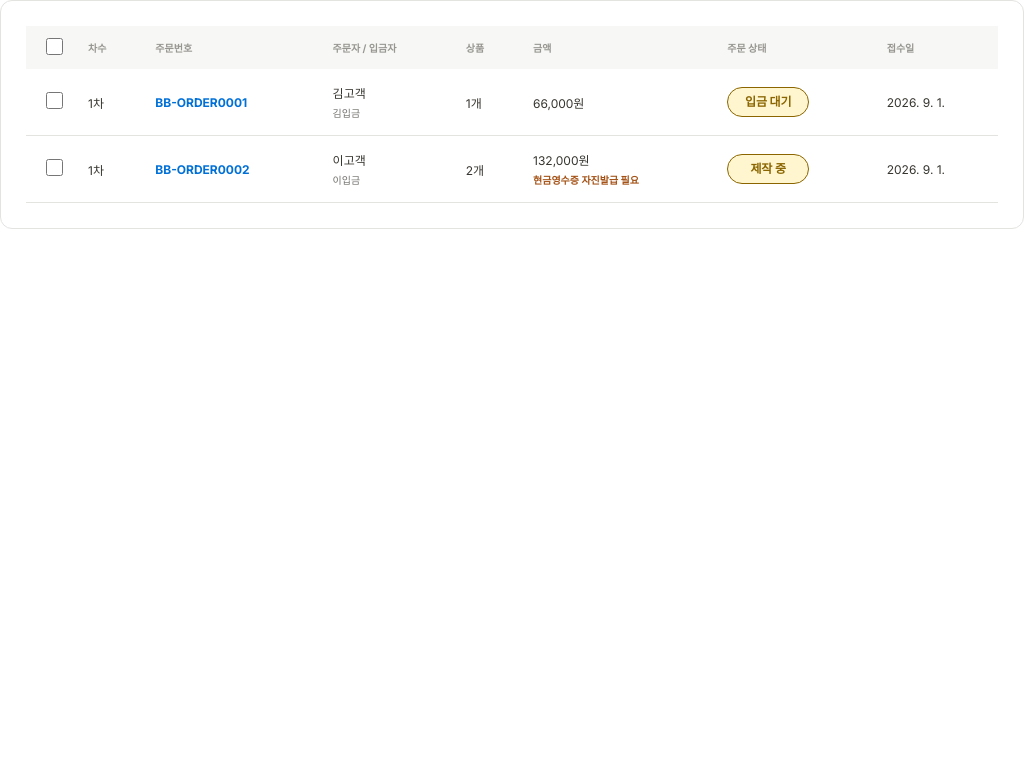
Test: AdminOrdersTable › 송장번호가 없는 택배 주문의 출고 완료 일괄 변경을 막는다
The image size is (1024, 768).
Click the checkbox named "BB-ORDER0001 선택" at [54, 100], box [46, 92, 62, 109]
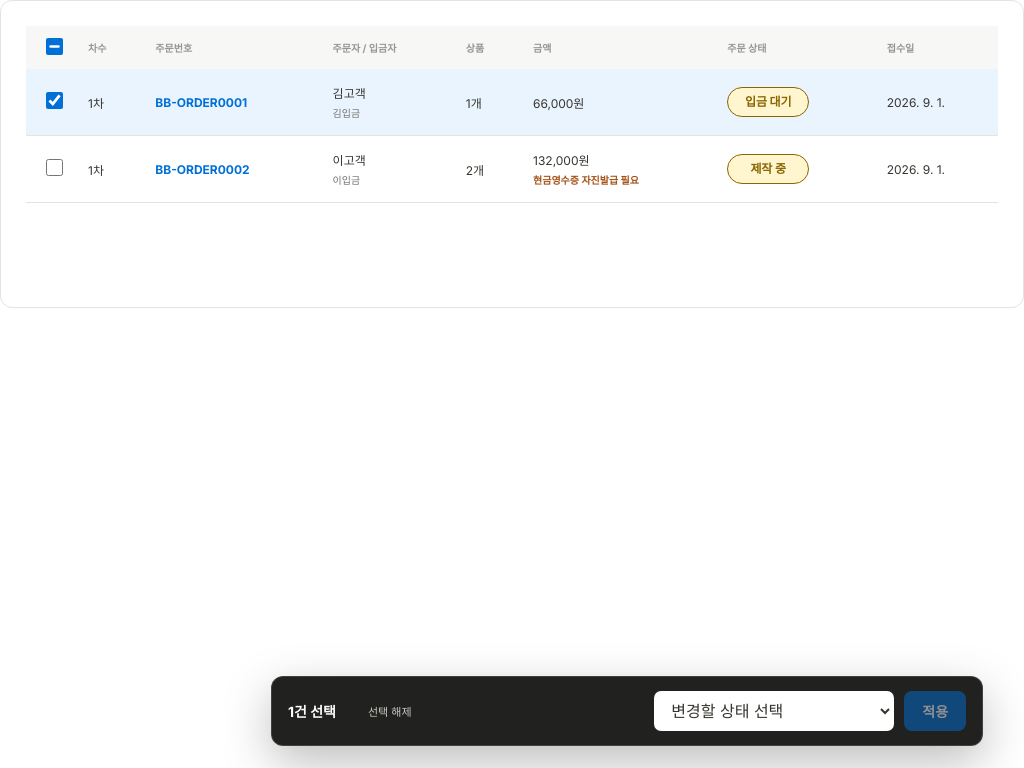
Select "출고 완료" in the dropdown named "변경할 주문 상태" at [774, 711], box [654, 691, 894, 731]
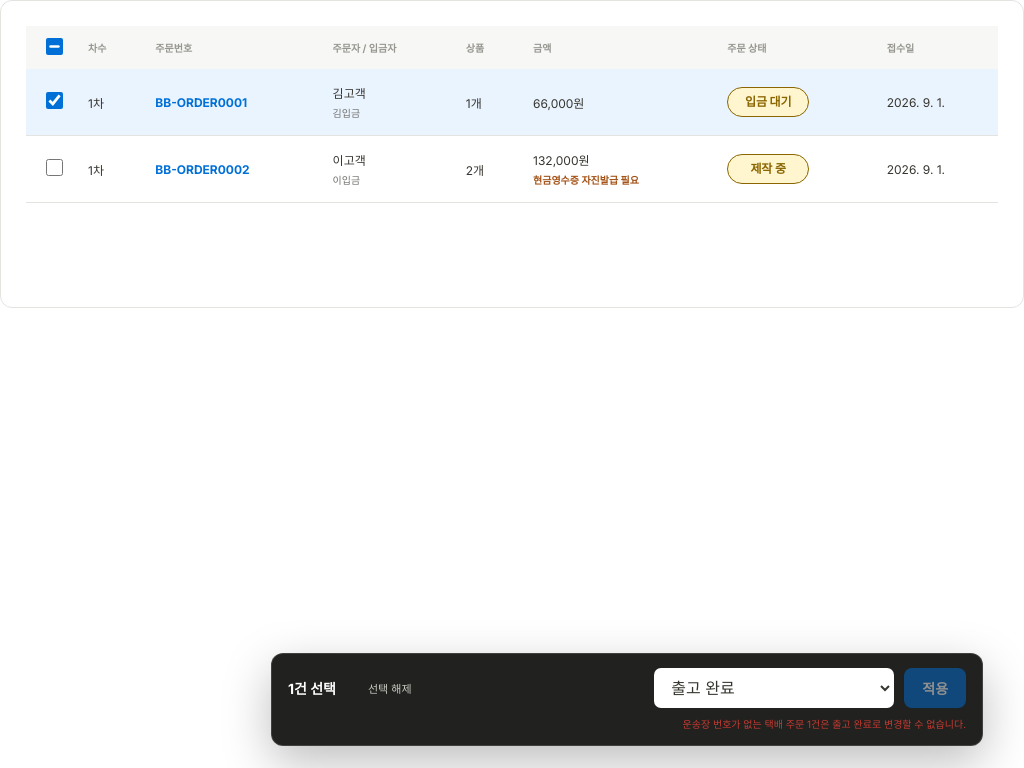
Now the button "적용" is disabled, box [904, 668, 966, 708]
Now the text "운송장 번호가 없는 택배 주문 1건은 출고 완료로 변경할 수 없습니다." is shown, box [682, 718, 966, 730]
